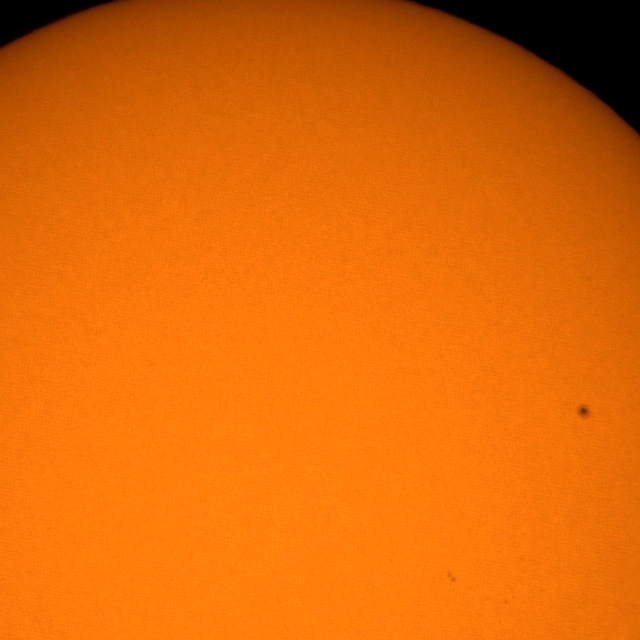sunspot: (576, 402, 592, 422), (446, 570, 457, 584)
